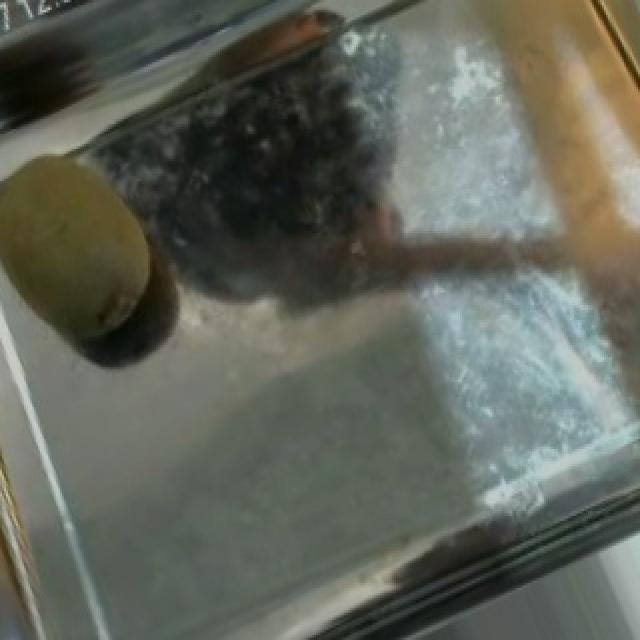Fruit: (458, 0, 640, 310), (0, 122, 192, 380)
